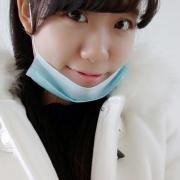WRONG: (38, 4, 138, 103)
